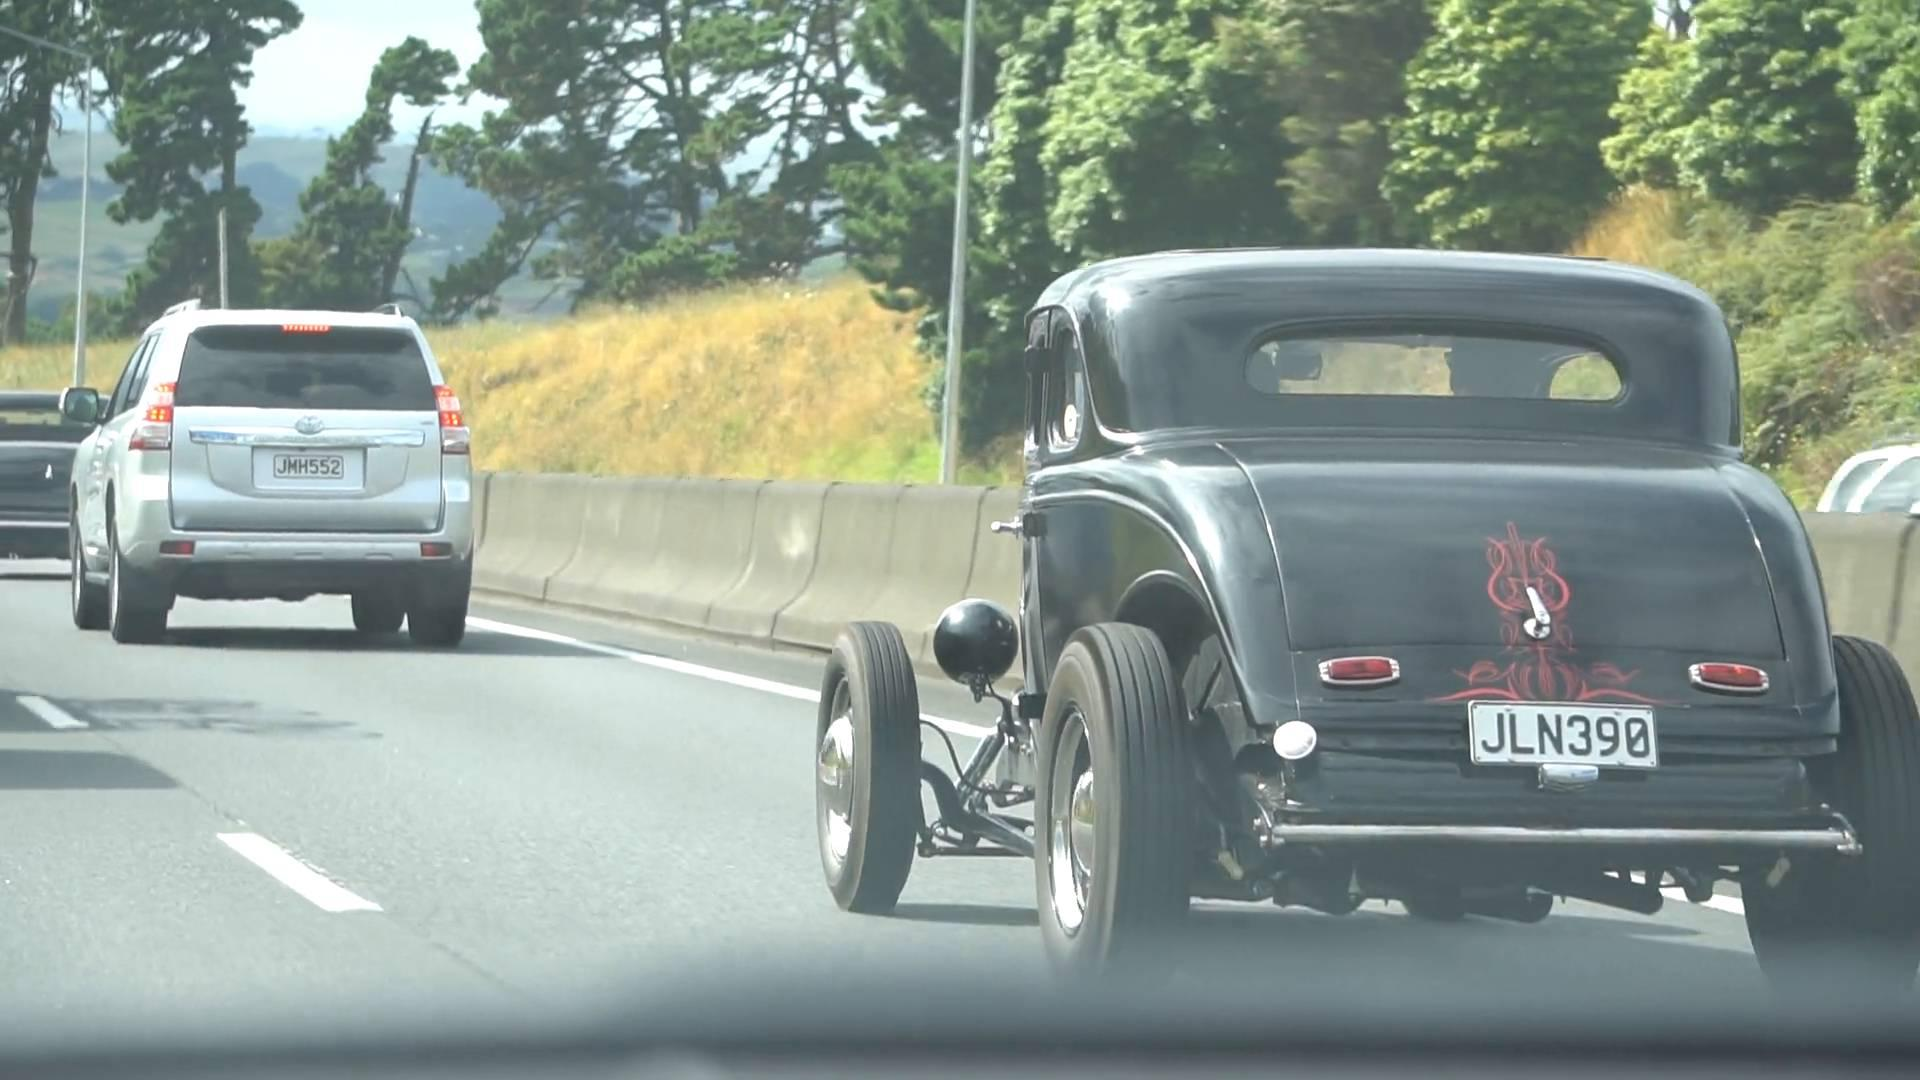car: (800, 236, 1914, 975), (54, 292, 476, 644)
license_plate: (1470, 697, 1656, 771), (271, 448, 345, 480)
